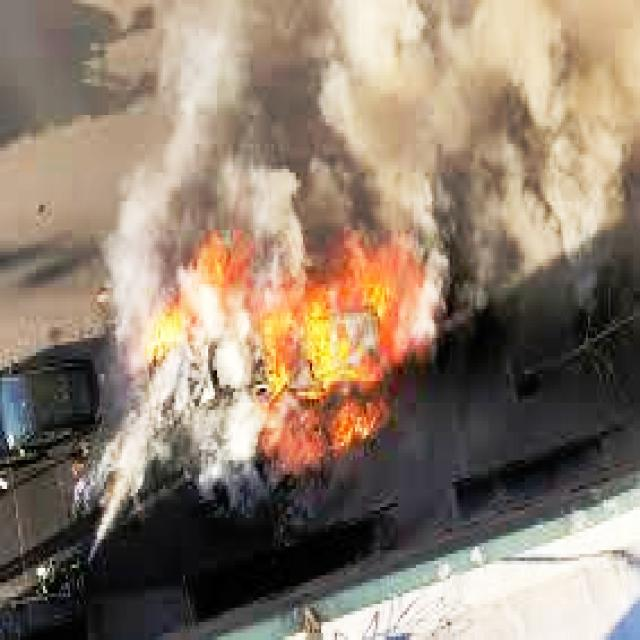api: (148, 192, 442, 479)
